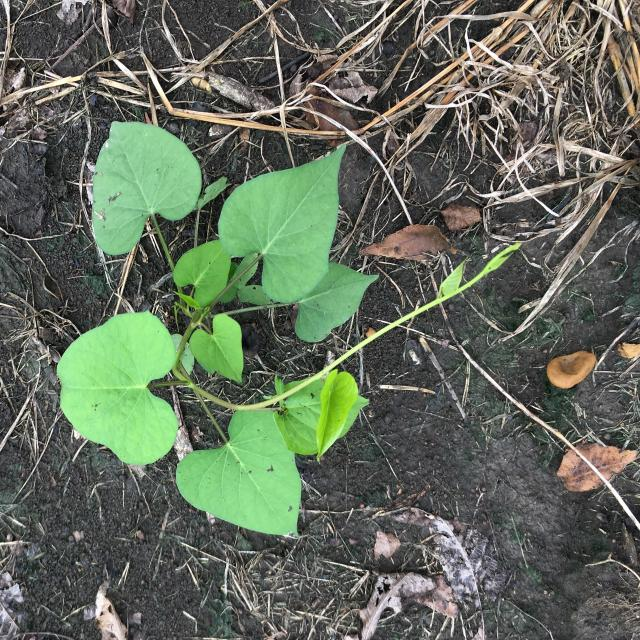MorningGlory: (57, 120, 523, 538)
